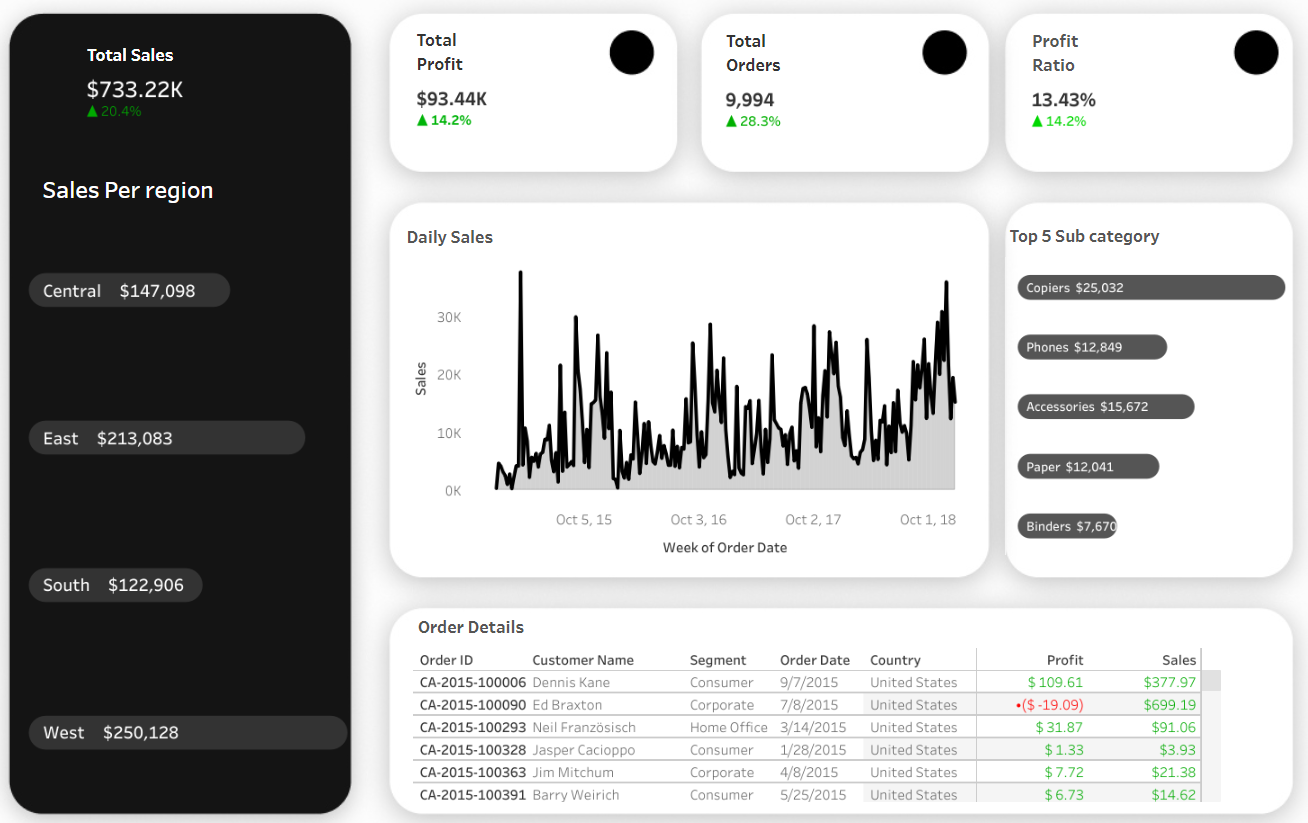

This screenshot's page, from the dashboard's own definition file:
{"tool":"tableau","page":{"name":"Dashboard 1","canvas":[1200,808],"ordinal":0},"visuals":[{"type":"image","param":"Image/templatka.PNG","box":[8,8,1184,792]},{"type":"worksheet","title":"Total Profit","mark":"Automatic","cols":["Calculation_108930831017762818"],"box":[392,65,172,115]},{"type":"worksheet","title":"Total Orders","mark":"Automatic","cols":["Profit CY (copy)_108930831326846982"],"box":[667,66,124,109]},{"type":"worksheet","title":"Profit Ratio","mark":"Automatic","cols":["Calculation_108930831332212746"],"box":[939,66,159,120]},{"type":"worksheet","title":"Total Sales","mark":"Automatic","cols":["Profit CY (copy)_108930831332872203"],"box":[99,78,400,229]},{"type":"worksheet","title":"Sales Per region","mark":"Line","rows":["Region"],"box":[38,194,309,568]},{"type":"worksheet","title":"Top 5 Sub category","mark":"Line","rows":["Sub-Category"],"box":[919,239,260,301]},{"type":"worksheet","title":"Daily Sales","mark":"Line","rows":["Sales","Sales"],"cols":["Order Date"],"box":[383,240,513,308]},{"type":"worksheet","title":"Order Details","mark":"Automatic","rows":["Order ID","Customer Name","Segment","Order Date","Country"],"box":[393,586,773,173]}]}

Visuals, with their boxes on the page's 1200x808 design canvas (x1, y1, x2, y2). These are canvas units, not pixel positions in the 1308x823 screenshot, which may show the page scaled, cropped or inside an application window:
image: [left=8, top=8, right=1192, bottom=800]
"Total Profit" worksheet: [left=392, top=65, right=564, bottom=180]
"Total Orders" worksheet: [left=667, top=66, right=791, bottom=175]
"Profit Ratio" worksheet: [left=939, top=66, right=1098, bottom=186]
"Total Sales" worksheet: [left=99, top=78, right=499, bottom=307]
"Sales Per region" worksheet (Line marks): [left=38, top=194, right=347, bottom=762]
"Top 5 Sub category" worksheet (Line marks): [left=919, top=239, right=1179, bottom=540]
"Daily Sales" worksheet (Line marks): [left=383, top=240, right=896, bottom=548]
"Order Details" worksheet: [left=393, top=586, right=1166, bottom=759]
